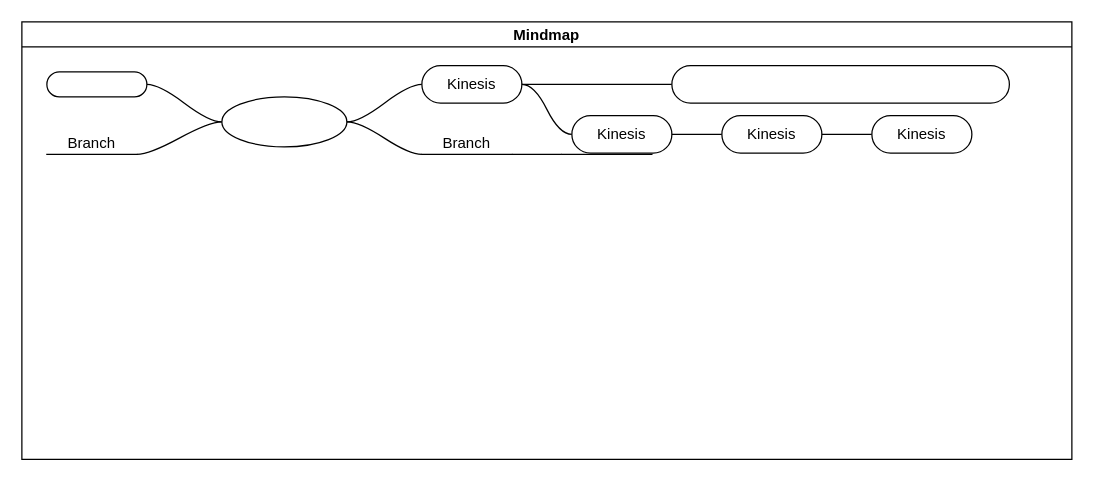
This 1094x481 diagram has some shape labels left out. Each missing label, with the centre of its shape:
AWS Services: pixel 284 121
Main page https://aws.amazon.com/kinesis/: pixel 840 83
Topic: pixel 96 84
